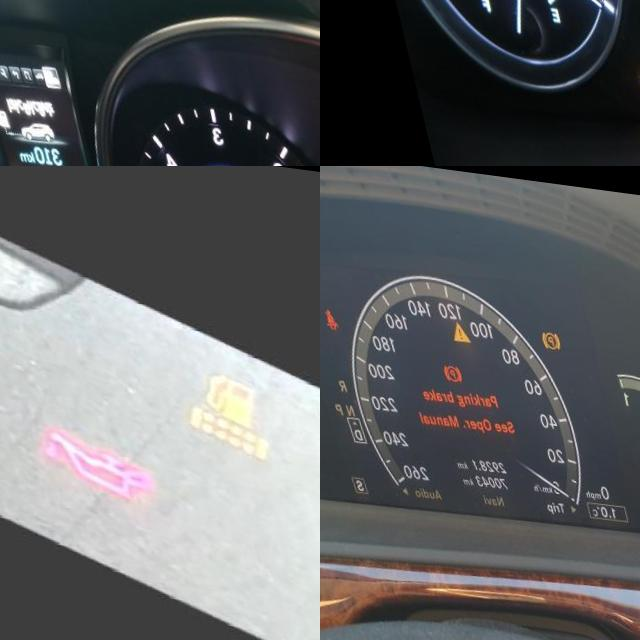Central Warning lamp: (442, 312, 464, 336)
